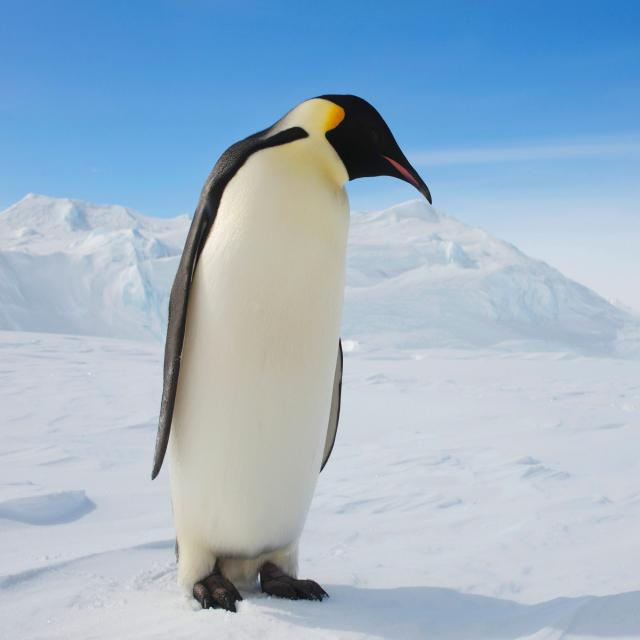penguin: (152, 96, 429, 611)
